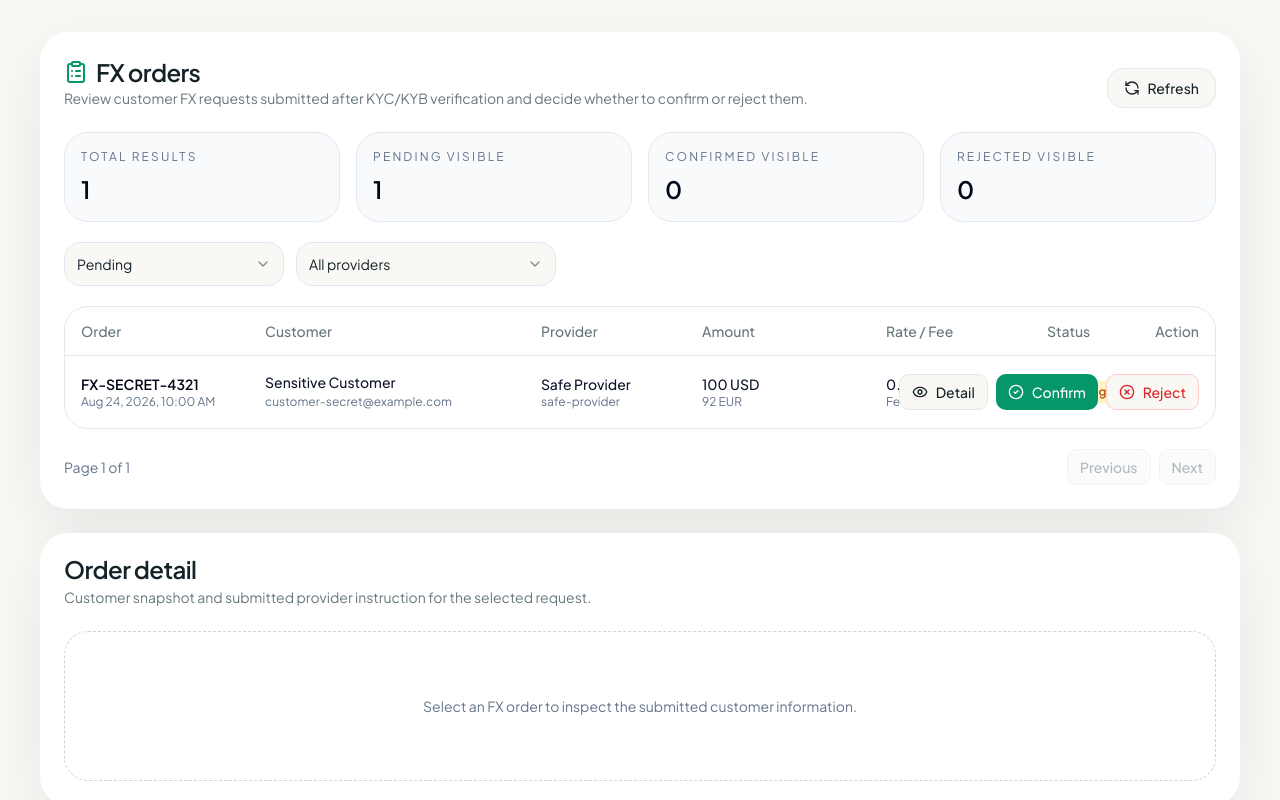
Test: shows FX operational and customer fields while excluding raw submission data
Expected: the text "FX-SECRET-4321" is shown, [81,374,199,392]
Expected: the text "Sensitive Customer" is shown, [265,372,395,390]
Click the button "Detail" at (943, 392), box [899,374,988,410]
(page scrolled)
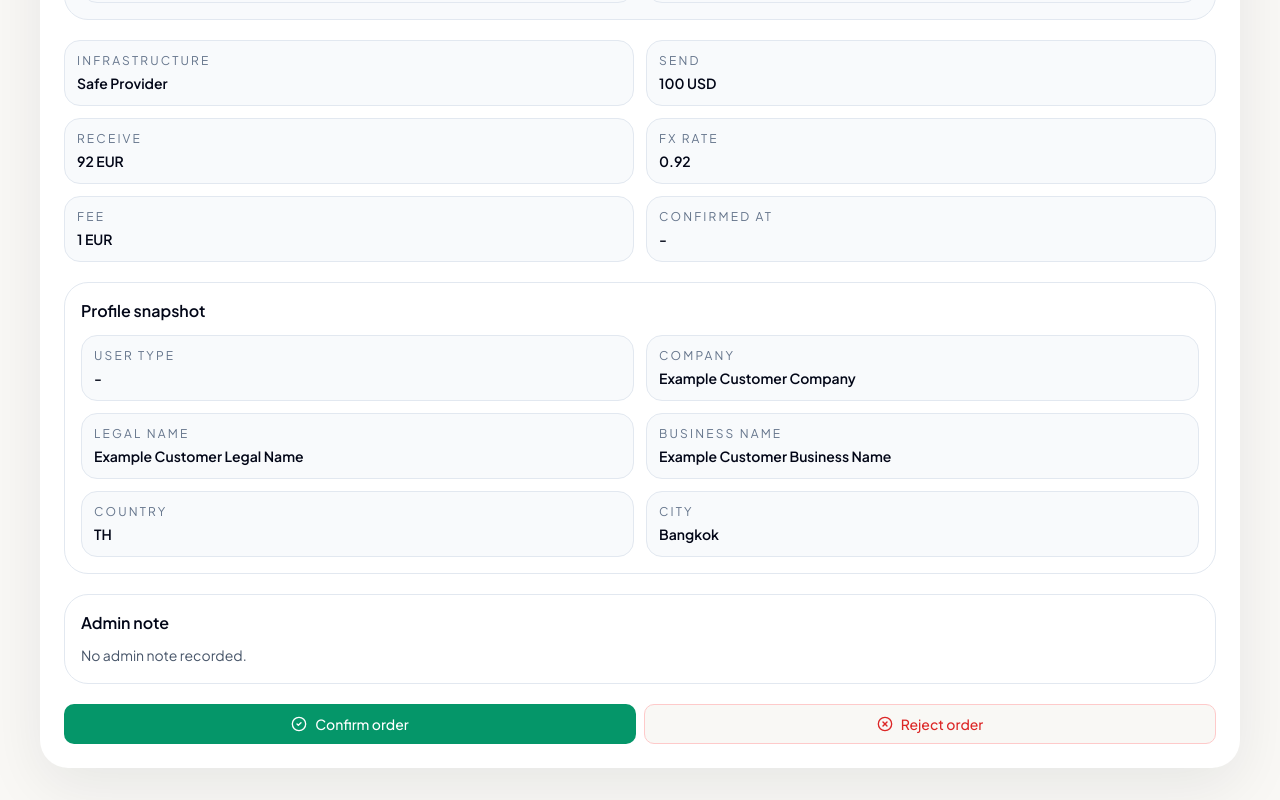
Now the text "Example Customer Company" is shown, box [659,368,856,386]
Now the text "Example Customer Legal Name" is shown, box [94,446,304,464]
Now the text "Example Customer Business Name" is shown, box [659,446,891,464]
